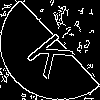K: (25, 25, 84, 80)
